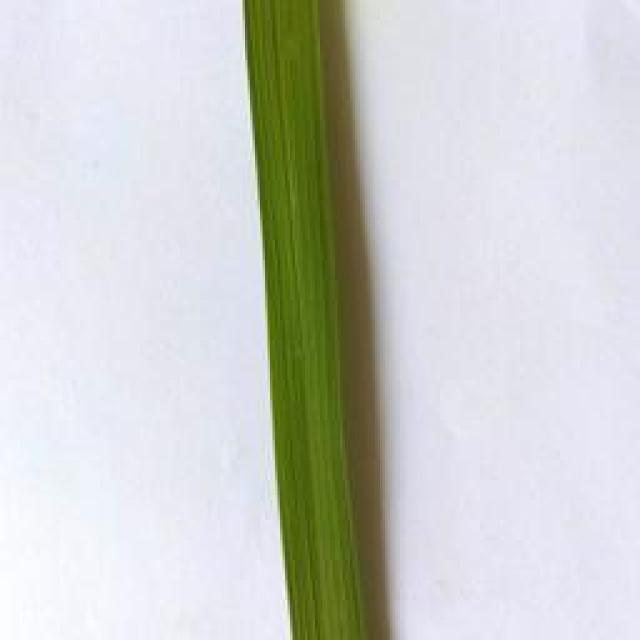Healthy-Plant: (244, 0, 366, 639)
